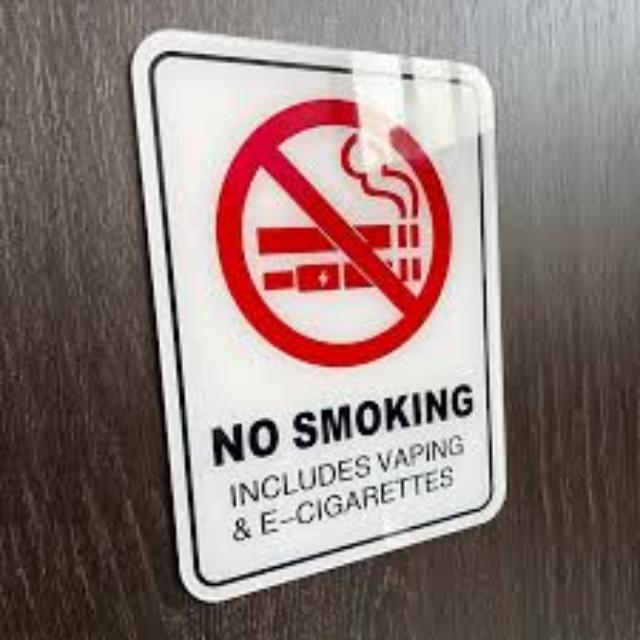cam hut thuoc: (134, 31, 503, 600)
